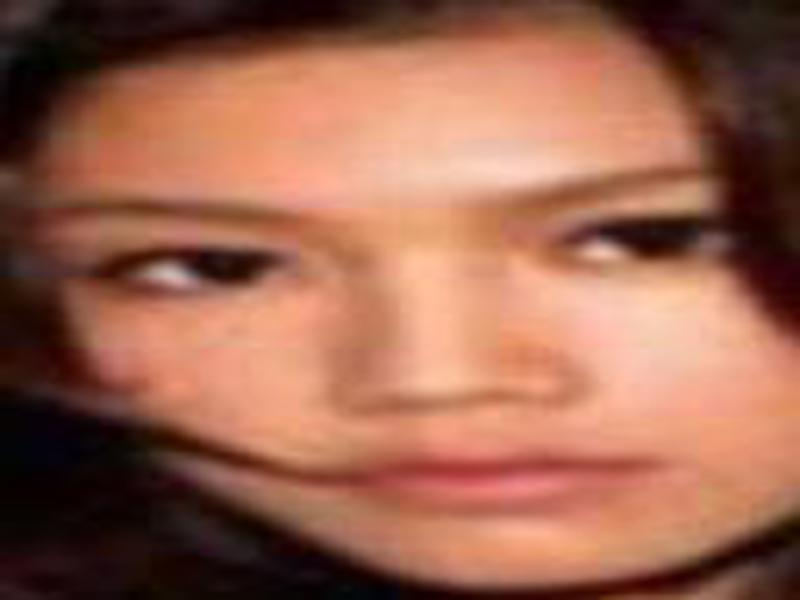without_mask: (34, 36, 800, 587)
